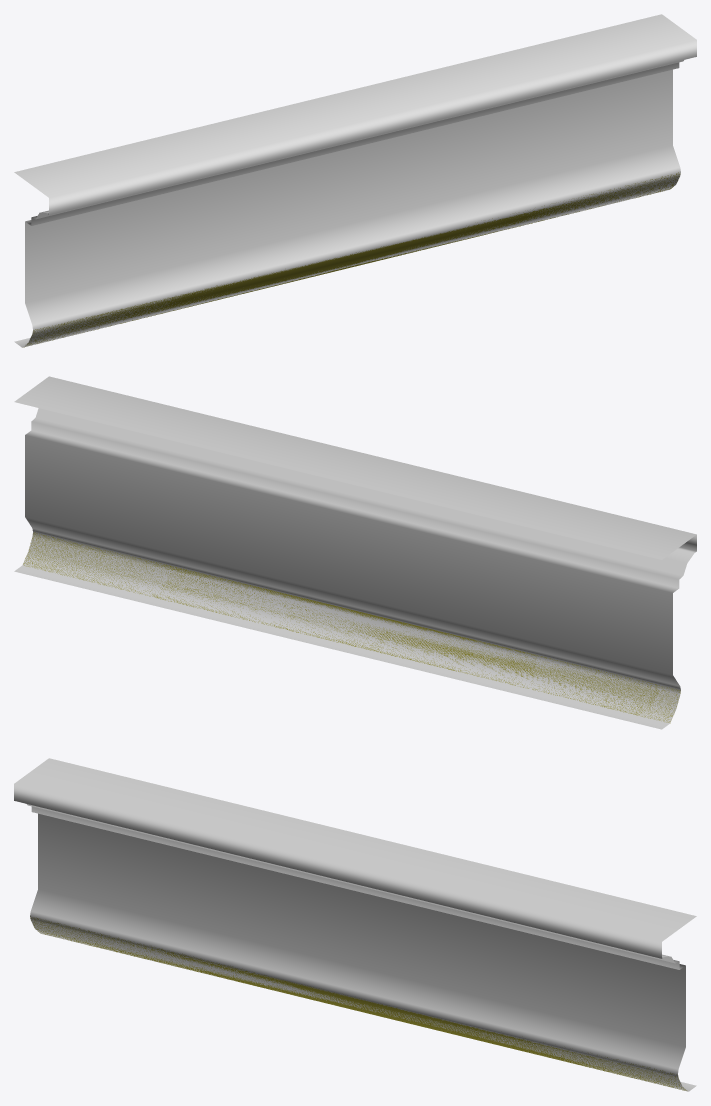
File: SM_FriezeA4m.fbx
3 views of the same model, one above another, from view 1: azimuth 30°, elevation 25°; view 2: azimuth 150°, elevation 25°; view 3: azimuth 330°, elevation 25° (orthographic).
Visible parts, largest first — view 1: SM_FriezeA4m; view 2: SM_FriezeA4m; view 3: SM_FriezeA4m.
Boxes of the visible parts, x1=… form: SM_FriezeA4m: x1=14, y1=14, x2=696, y2=347; SM_FriezeA4m: x1=14, y1=376, x2=696, y2=729; SM_FriezeA4m: x1=14, y1=758, x2=696, y2=1091.
Bounding box in the file's own units: 400 × 100 × 37.5.
